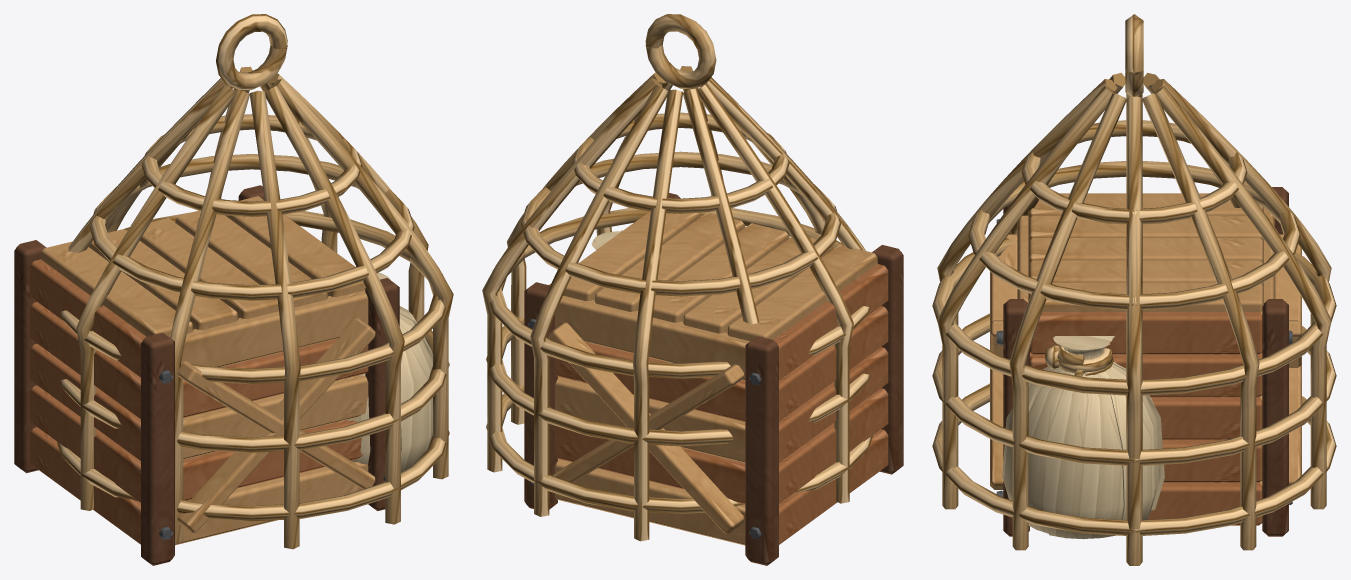
Rendered from SM_CargoNet.glb.
3 renders of one model, left to right at view 1: azimuth 30°, elevation 25°; view 2: azimuth 150°, elevation 25°; view 3: azimuth 270°, elevation 25°, orthographic. The views are drawn at different scales.
Parts seen in each view (by area): view 1: SM_CargoNet; view 2: SM_CargoNet; view 3: SM_CargoNet.
Boxes of the visible parts, box(x1,y1,x2,y2) form: SM_CargoNet: box(14, 14, 453, 565); SM_CargoNet: box(482, 14, 903, 565); SM_CargoNet: box(932, 14, 1336, 565).
Size of the model in its own units: 1.07 by 1.36 by 1.04.
1 material, 1 textured.
